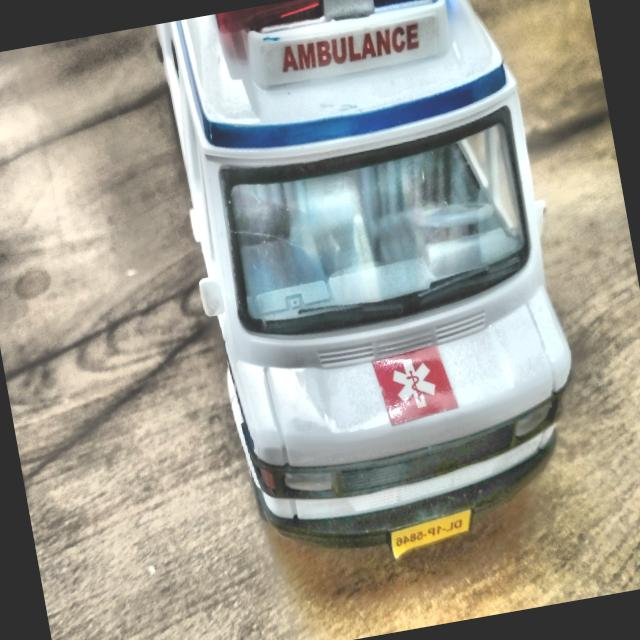Ambulance: (135, 0, 606, 598)
